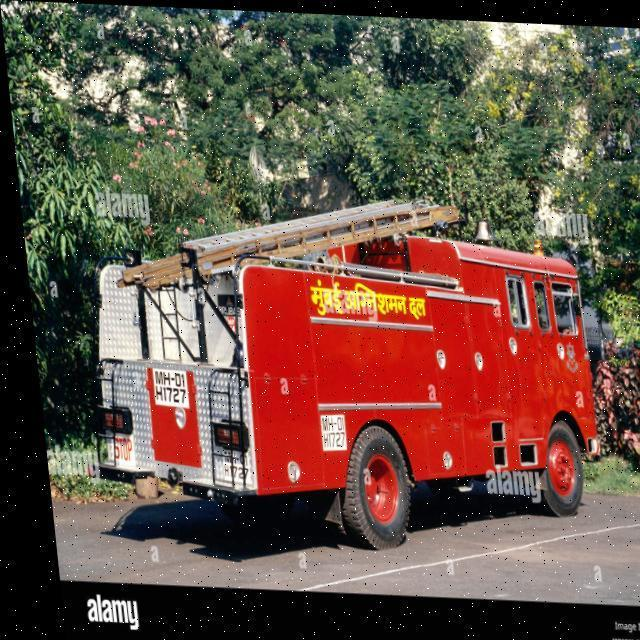Ambulance: (56, 178, 604, 559), (39, 464, 640, 604)
